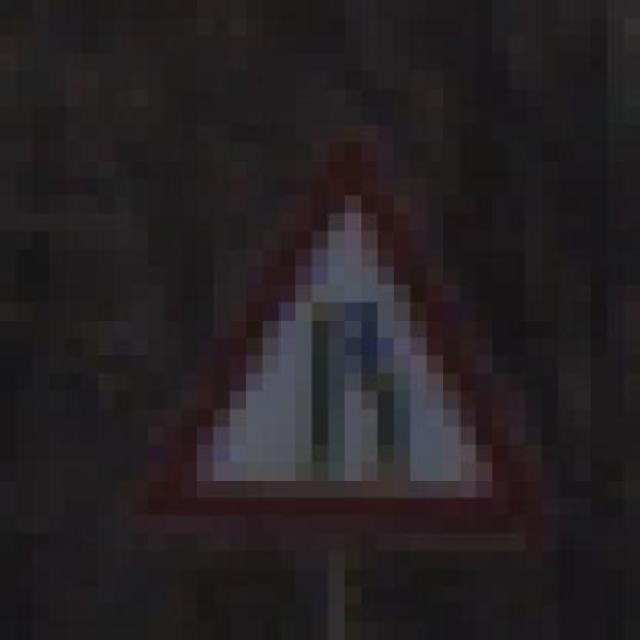-Road narrows on right: (99, 107, 558, 551)
